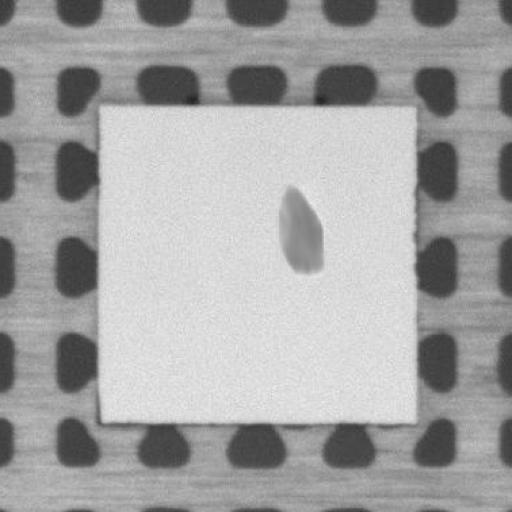DIE_INK: (274, 186, 328, 274)
